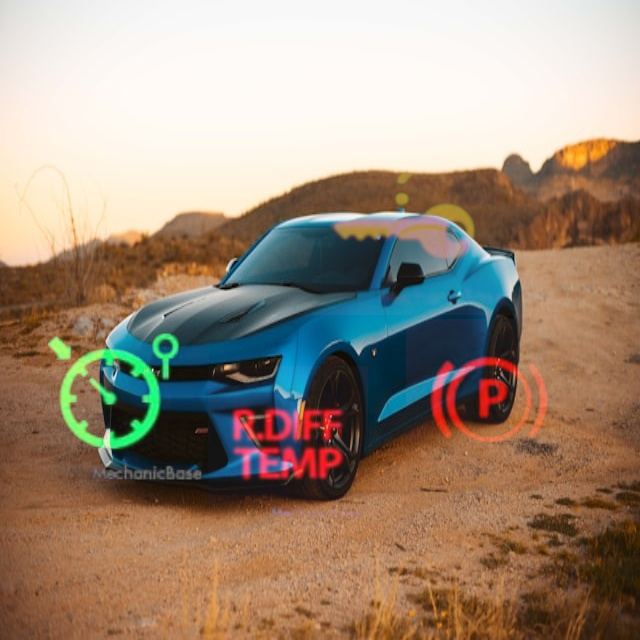symbol: (293, 95, 513, 315), (17, 297, 209, 489), (406, 319, 572, 485), (208, 366, 368, 526)
